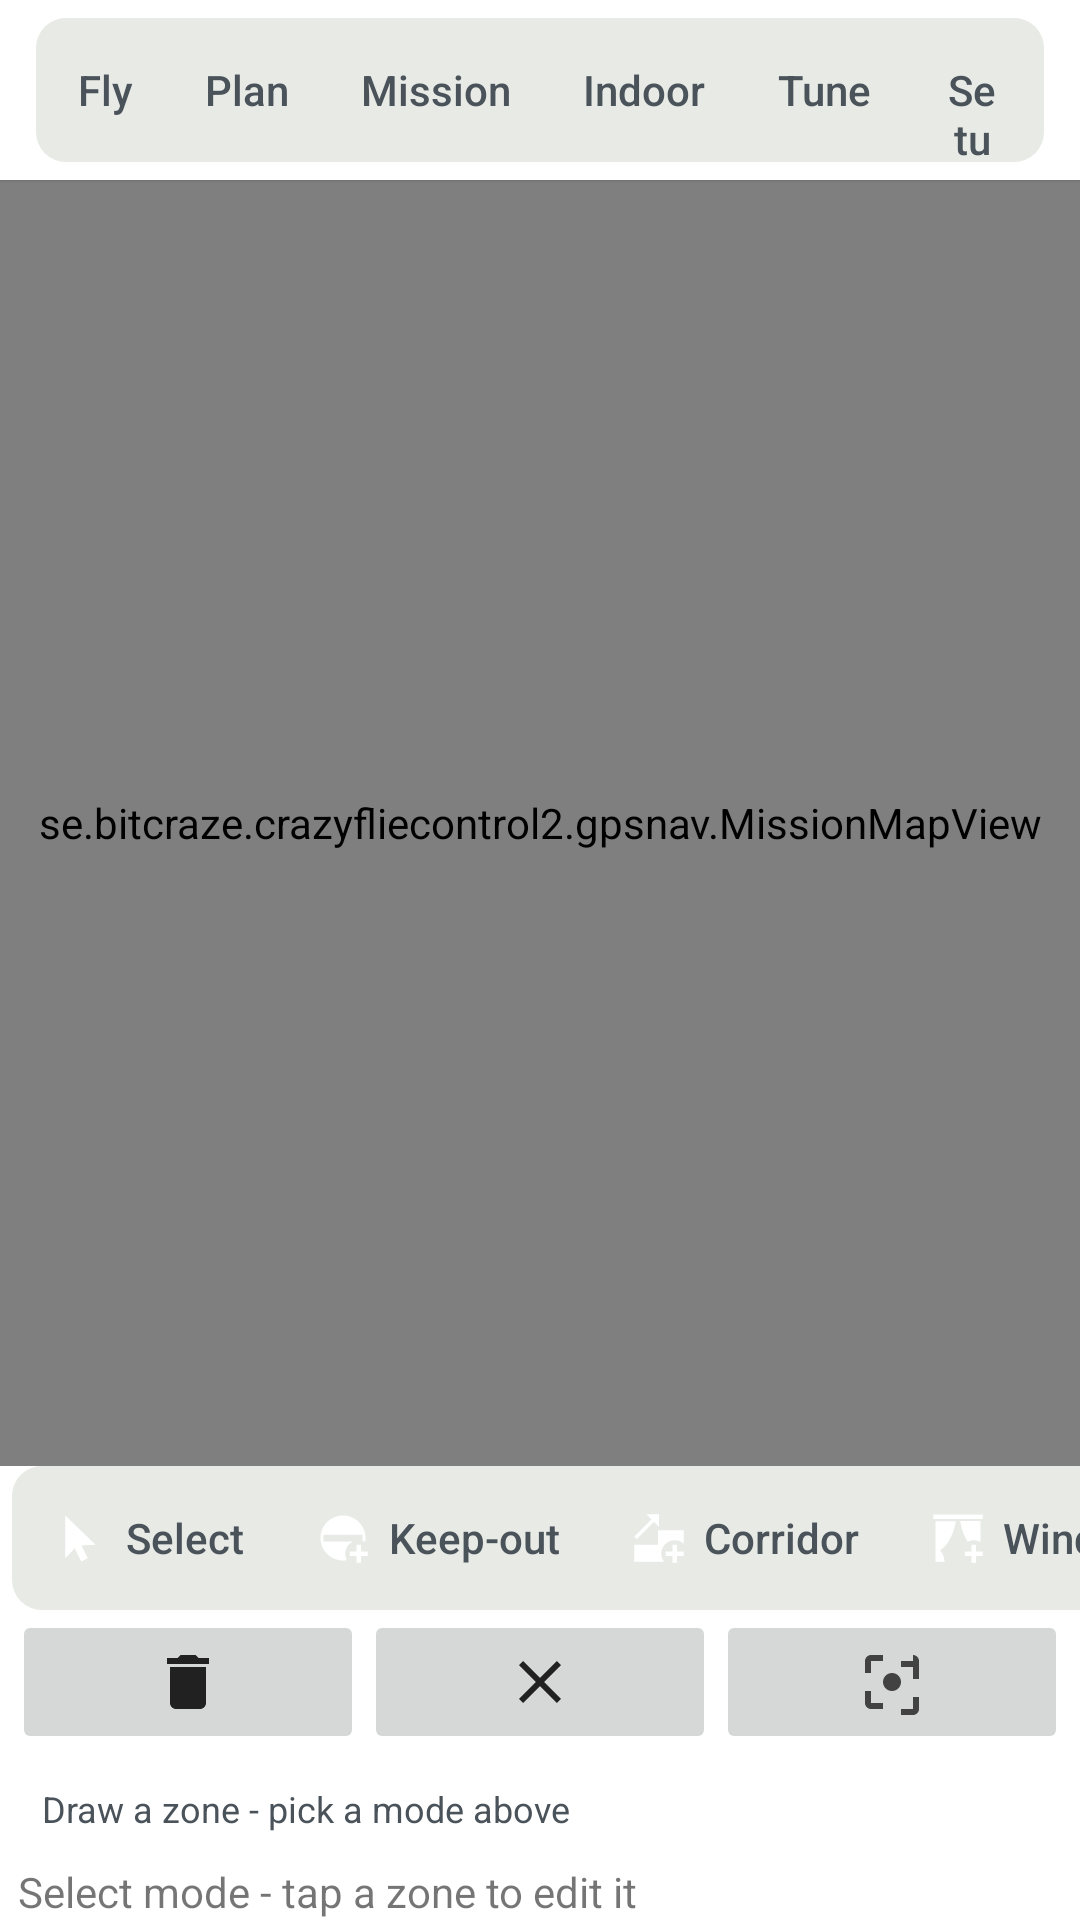

Icon click points for this 1080x1920 phone screenshot, format [x,y]:
Center map: [892,1682]
Clear all annotations: [540,1682]
